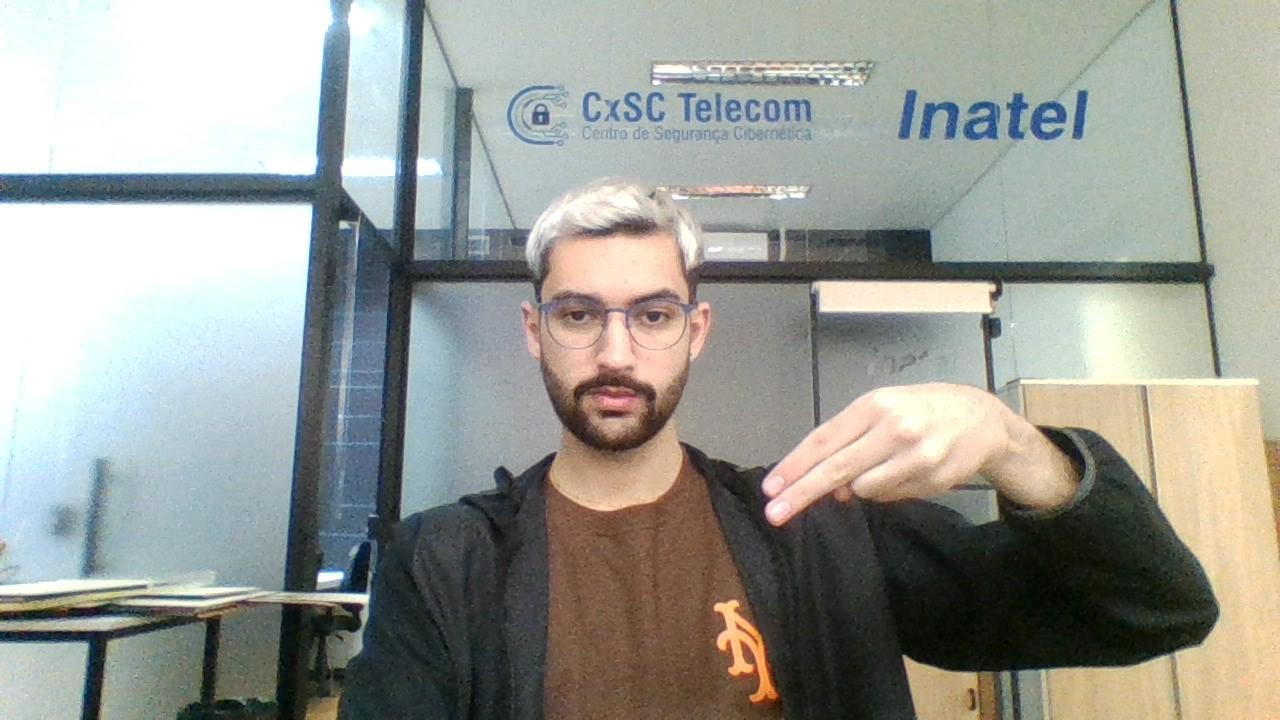N: (750, 378, 1014, 526)
